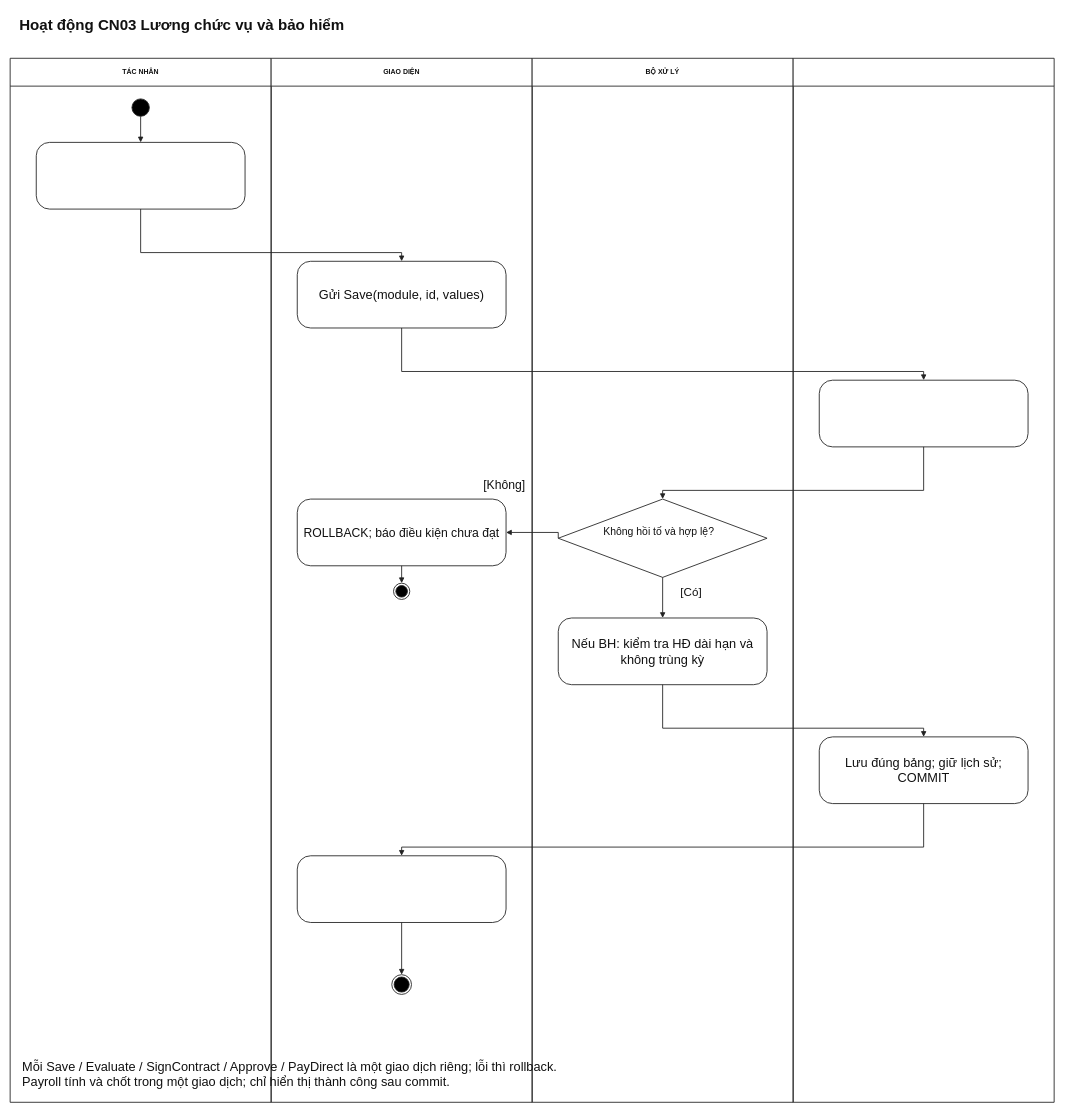
This 1065x1112 diagram has some shape labels left out. Here are the shapes that lost their labels. From the top down, the box of each, then its label:
(36, 142, 245, 209): Nhập quyết định lương / chức vụ / bảo hiểm
(819, 379, 1028, 447): Đọc tháng đã chốt và hồ sơ liên quan
(792, 58, 1054, 1102): DỮ LIỆU / Db
(297, 855, 506, 923): Hiển thị quyết định / bảo hiểm đã lưu
